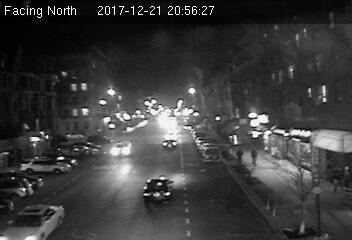car: (142, 177, 175, 200), (201, 146, 222, 163), (111, 141, 133, 156), (161, 139, 178, 148)
